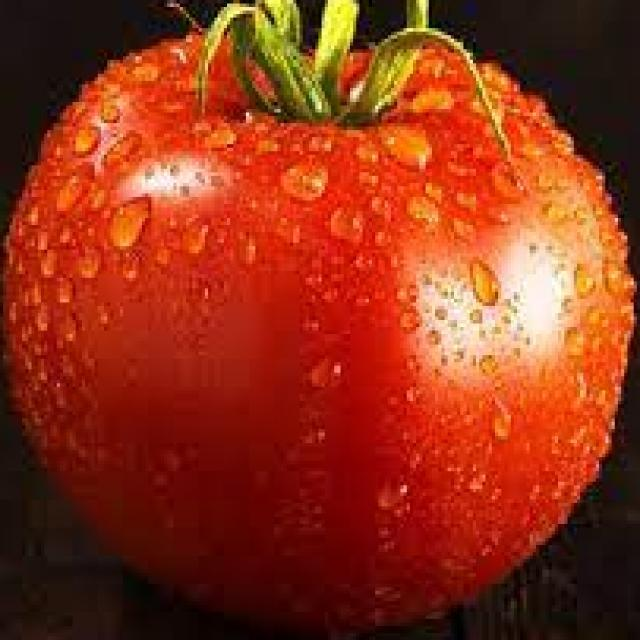Healthy: (13, 14, 640, 628)
